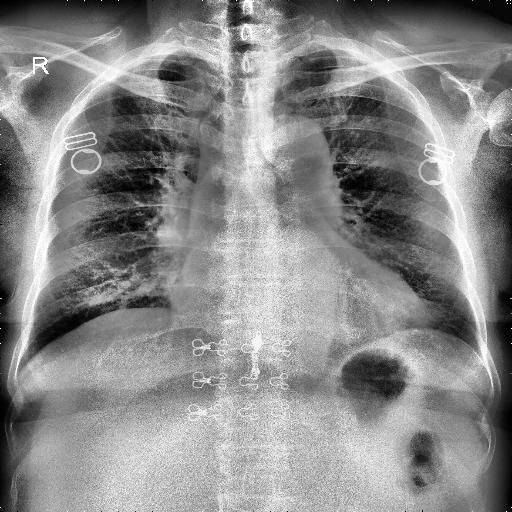0- Aortic enlargement: (242, 114, 332, 195), (260, 116, 334, 190), (254, 115, 330, 182)
3- Cardiomegaly: (174, 258, 436, 335), (174, 266, 438, 338), (171, 274, 431, 346)
